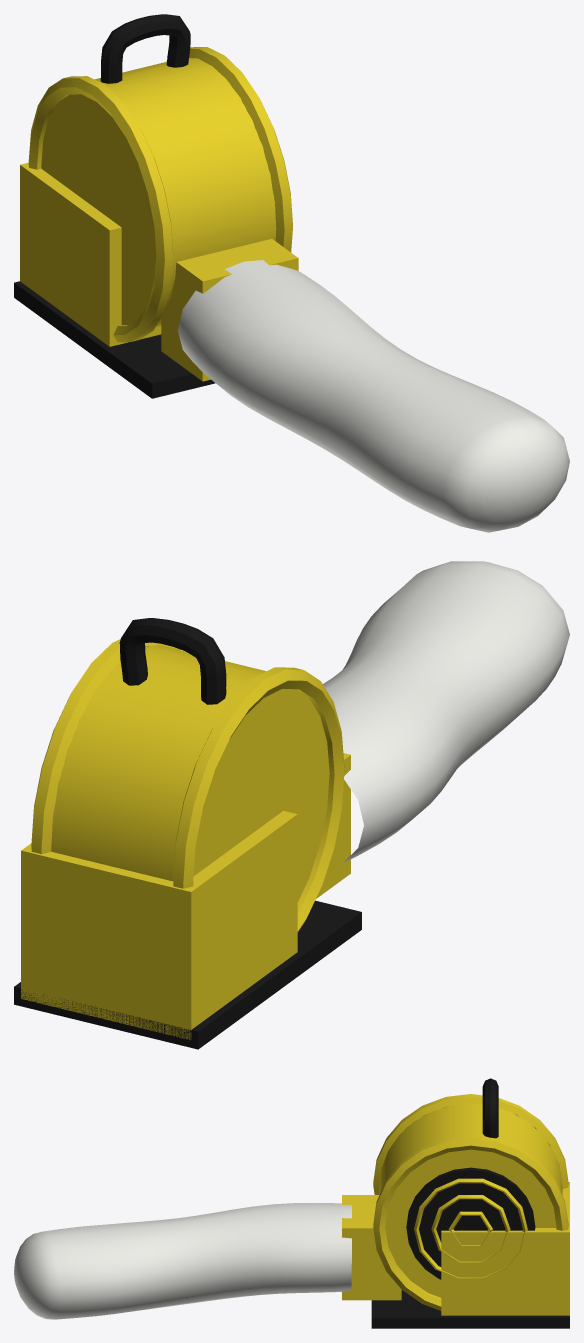
File: longhorn-blower.glb
3 views of the same model, one above another, from view 1: azimuth 30°, elevation 25°; view 2: azimuth 150°, elevation 25°; view 3: azimuth 270°, elevation 25° (orthographic). The views are drawn at different scales.
Parts seen in each view (by area): view 1: blower; view 2: blower; view 3: blower.
Part boxes in pixels (x1,y1,x2,y2): blower: (14, 14, 569, 532); blower: (14, 561, 569, 1049); blower: (14, 1078, 569, 1328).
Size of the model in its own units: 0.3227 by 0.4821 by 1.12.
